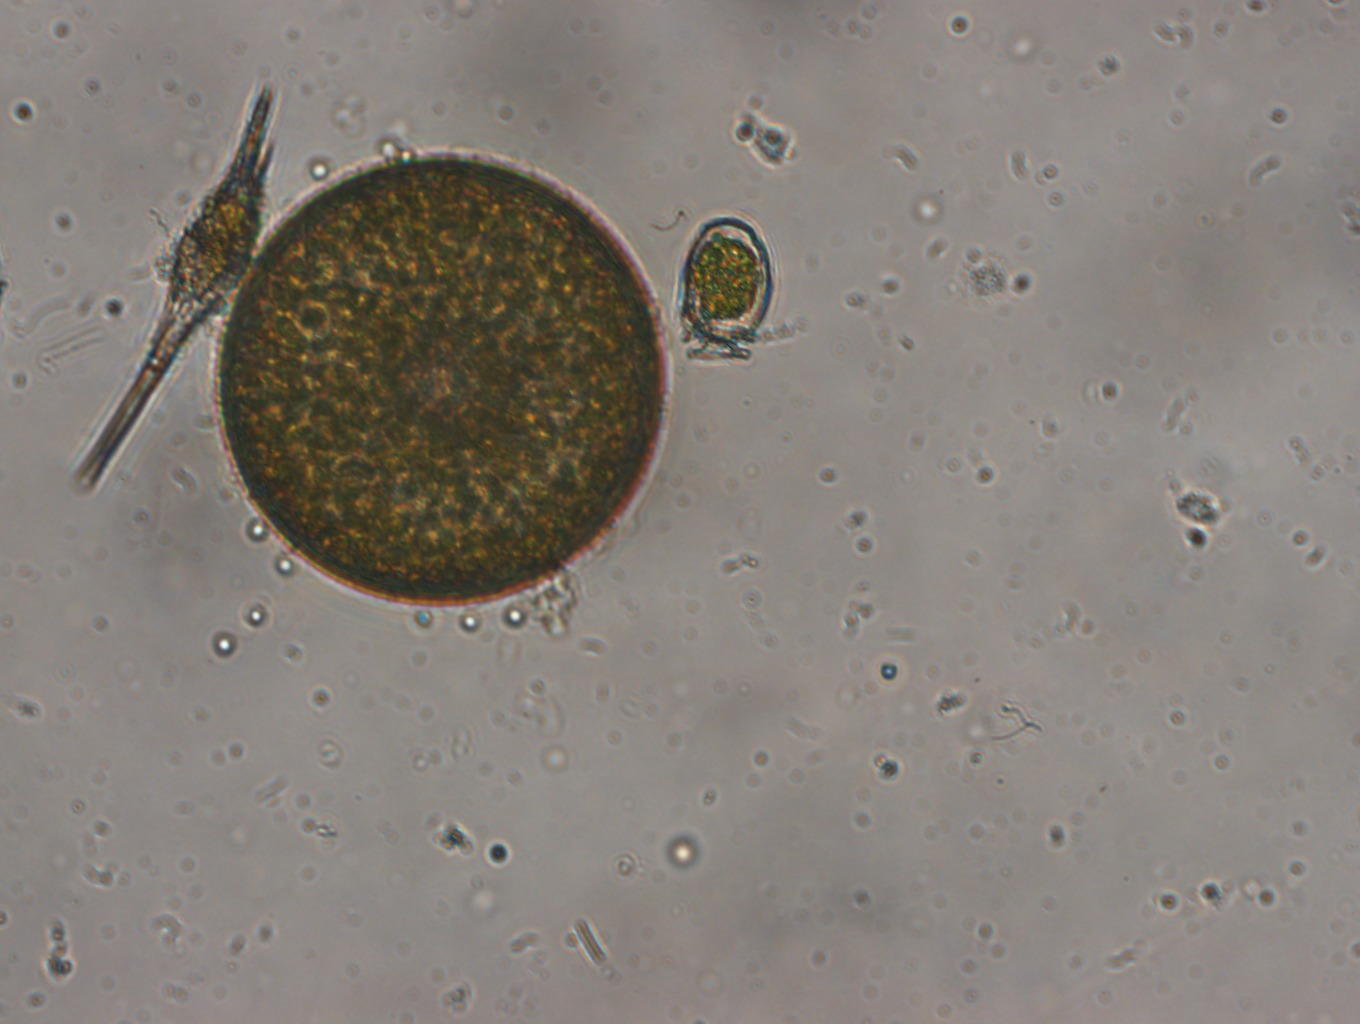ceratium furca: (72, 74, 278, 507)
coscinodiscus: (209, 141, 673, 615)
